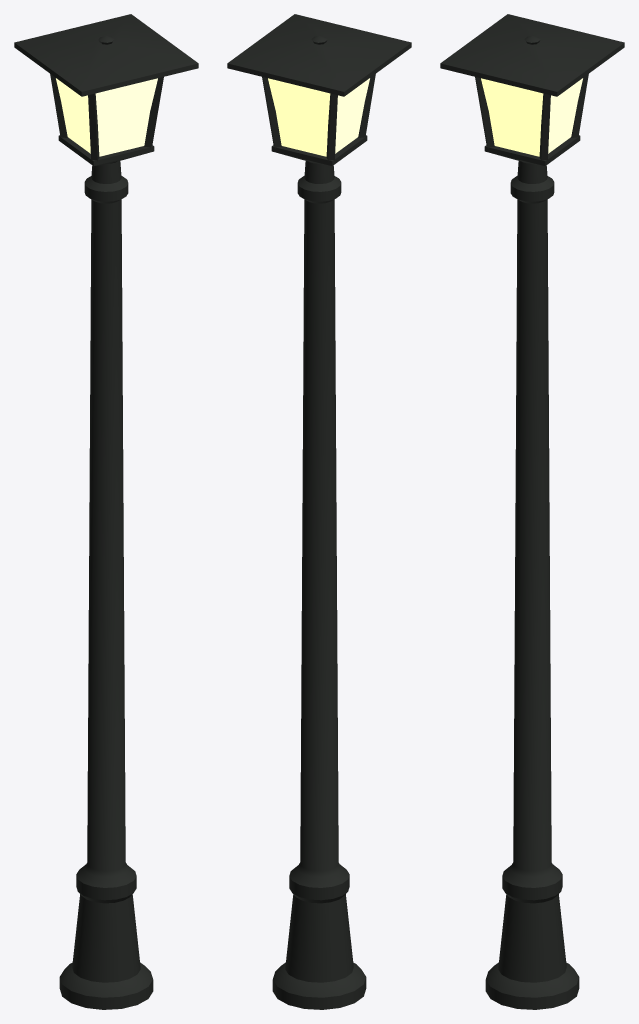
The model's file is farol.glb.
3 renders of one model, left to right at view 1: azimuth 30°, elevation 25°; view 2: azimuth 150°, elevation 25°; view 3: azimuth 330°, elevation 25°, orthographic.
Visible parts, largest first — view 1: farol_cuerpo, pieza_lampara; view 2: farol_cuerpo, pieza_lampara; view 3: farol_cuerpo, pieza_lampara.
Part boxes in pixels (left/top/right/bottom): farol_cuerpo: left=14, top=14, right=198, bottom=1009; pieza_lampara: left=56, top=78, right=157, bottom=156; farol_cuerpo: left=227, top=14, right=411, bottom=1009; pieza_lampara: left=268, top=78, right=369, bottom=156; farol_cuerpo: left=440, top=14, right=624, bottom=1009; pieza_lampara: left=481, top=78, right=582, bottom=156.
Size of what is drawn, in the model's own units: 0.5 by 3.9 by 0.5.
